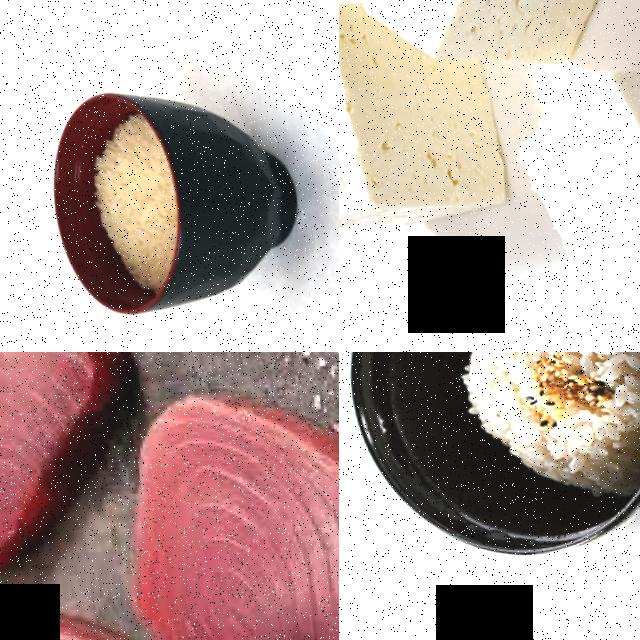tofu: (501, 25, 640, 352), (339, 31, 521, 252), (339, 0, 640, 87)
tuna: (104, 352, 339, 640), (0, 352, 159, 601), (0, 569, 277, 640)
white rice: (92, 103, 195, 275), (530, 399, 640, 488), (456, 352, 532, 445)
